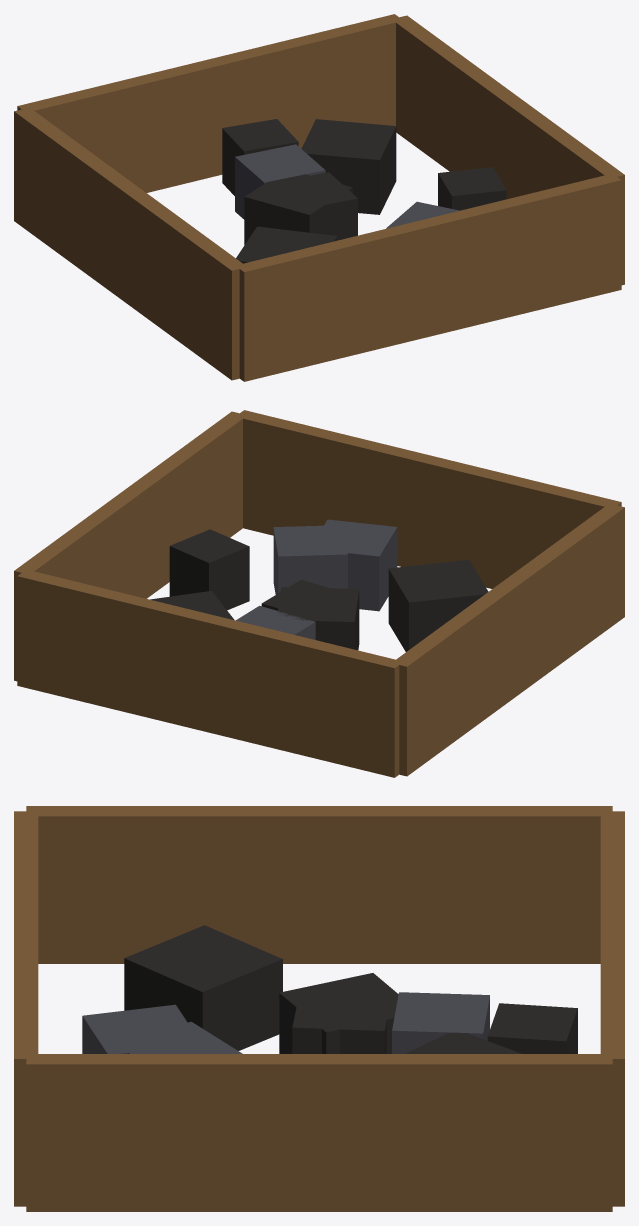
File: pile_coal_1.glb
3 renders of one model, top to bottom at view 1: azimuth 30°, elevation 25°; view 2: azimuth 150°, elevation 25°; view 3: azimuth 270°, elevation 25°, orthographic. The views are drawn at different scales.
Parts seen in each view (by area): view 1: pile_coal_1; view 2: pile_coal_1; view 3: pile_coal_1.
Part boxes in pixels (<box>): pile_coal_1: <box>14,14,624,381</box>; pile_coal_1: <box>14,410,624,777</box>; pile_coal_1: <box>14,806,624,1211</box>.
Size of the model in its own units: 1.5 by 0.4 by 1.5.
